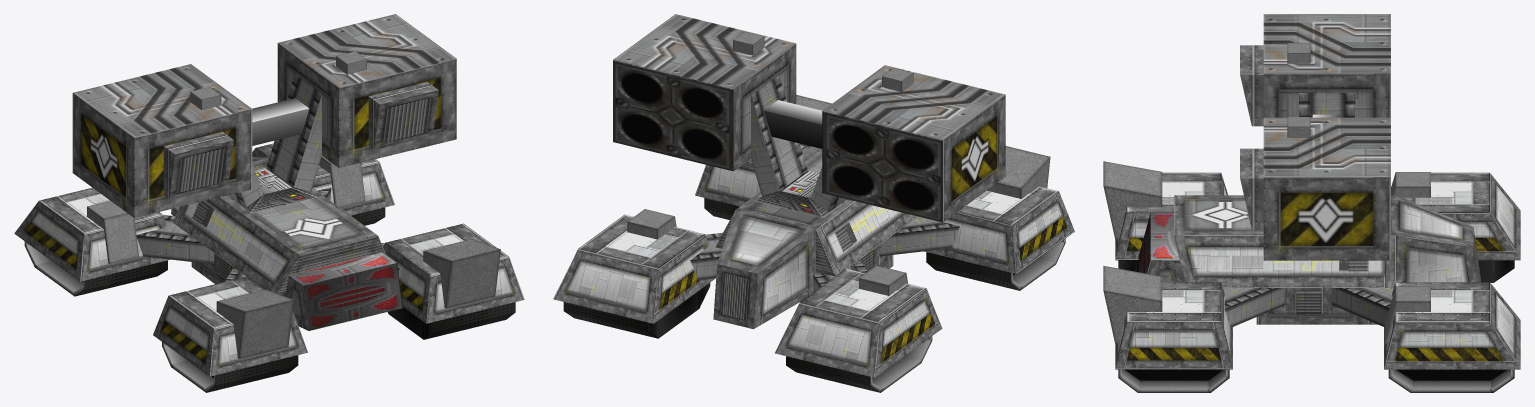
Rendered from armkaat.obj.
3 renders of one model, left to right at view 1: azimuth 30°, elevation 25°; view 2: azimuth 150°, elevation 25°; view 3: azimuth 270°, elevation 25°, orthographic. The views are drawn at different scales.
Bounding box in the file's own units: 5.33 × 3.53 × 5.75.
Materials: 2 (2 with a texture image).
